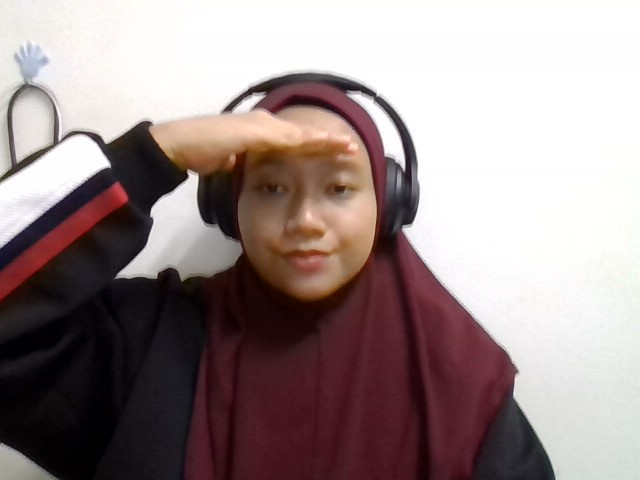Johor: (184, 108, 365, 176)
